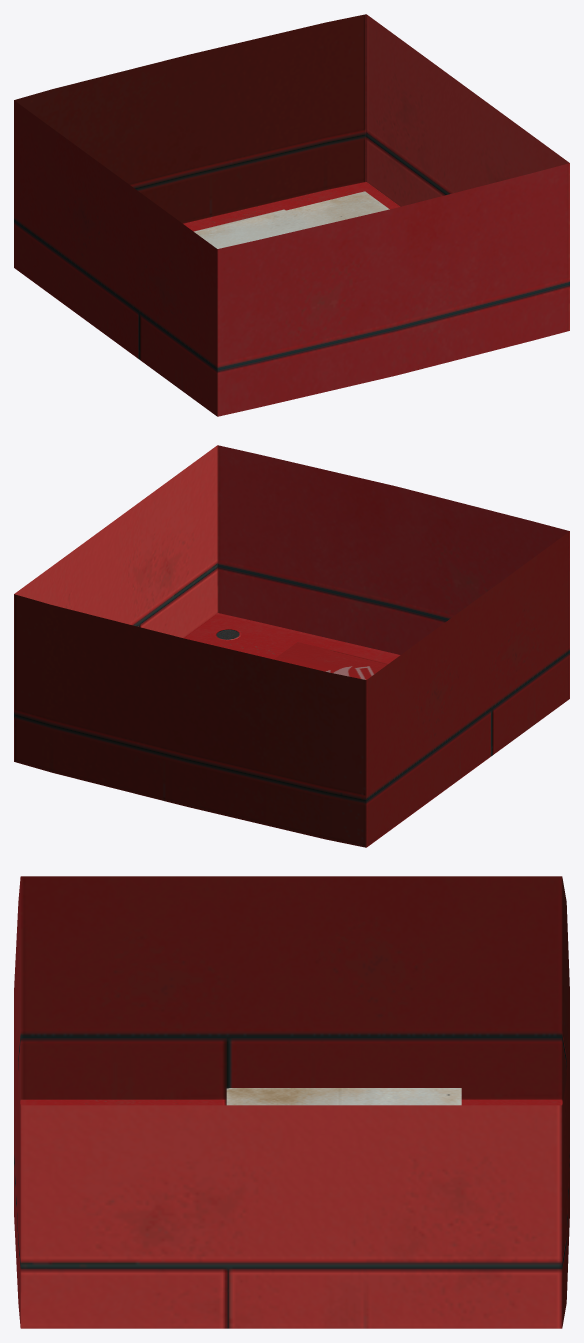
File: ManualFireAlarmButton.obj
The picture shows the model from 3 angles, top to bottom: view 1: azimuth 30°, elevation 25°; view 2: azimuth 150°, elevation 25°; view 3: azimuth 270°, elevation 25°; orthographic projection. The views are drawn at different scales.
Parts seen in each view (by area): view 1: ManualFireAlarmButton; view 2: ManualFireAlarmButton; view 3: ManualFireAlarmButton.
Boxes of the visible parts, x1,y1,x2,y2 form: ManualFireAlarmButton: [14, 14, 569, 416]; ManualFireAlarmButton: [14, 445, 569, 847]; ManualFireAlarmButton: [14, 876, 569, 1328].
Bounding box in the file's own units: 0.087 × 0.0396 × 0.0893.
1 material, 1 textured.
